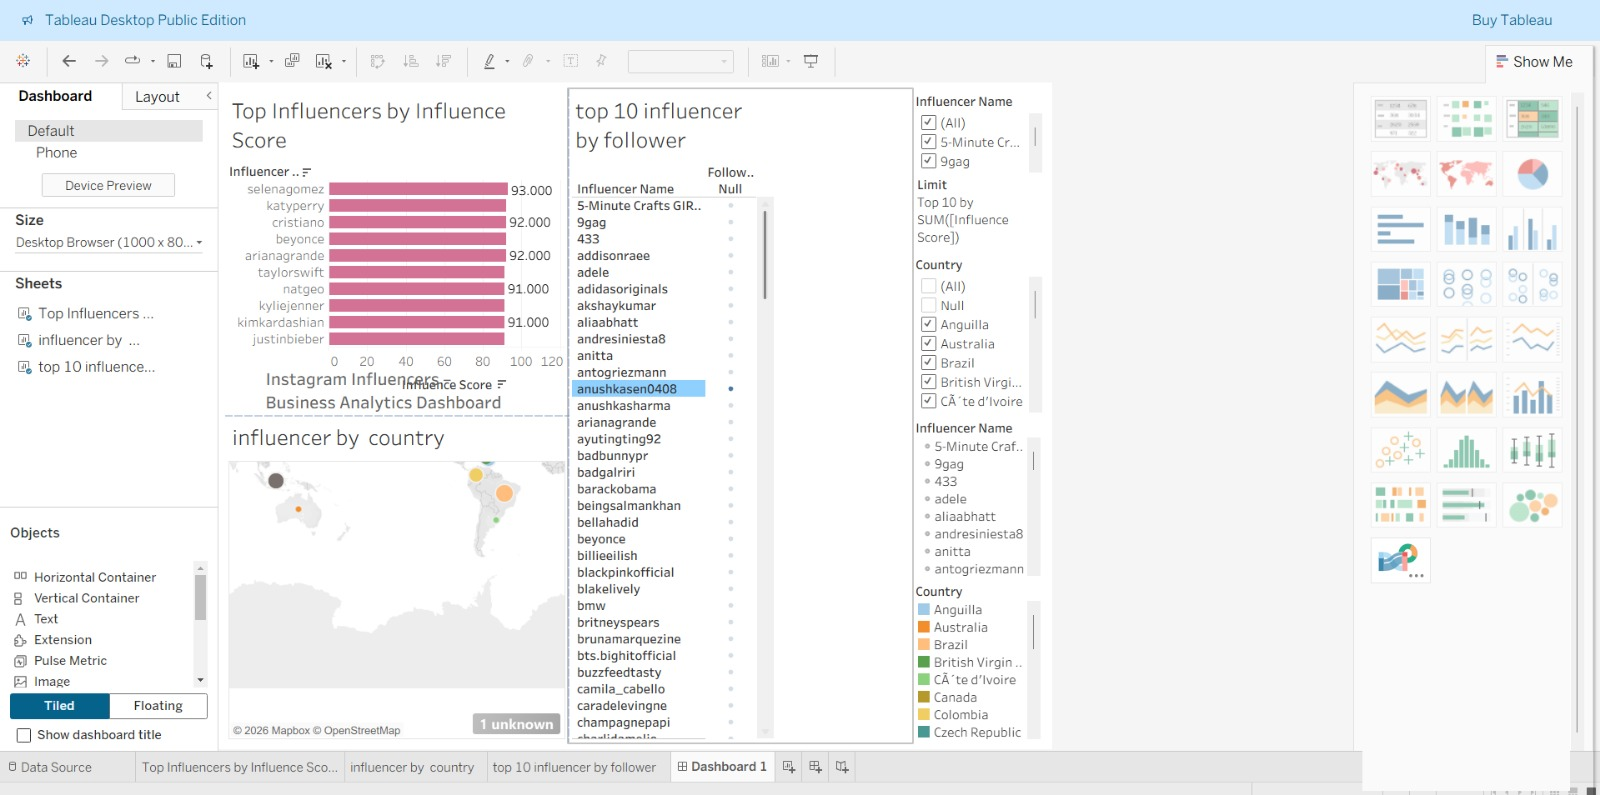

The dashboard page shown, as its layout file describes it:
{"tool":"tableau","page":{"name":"Dashboard 1","canvas":[1000,800],"ordinal":0},"visuals":[{"type":"worksheet","title":"Top Influencers by Influence Score","mark":"Automatic","rows":["channel_info"],"cols":["influence_score"],"box":[8,8,412,392]},{"type":"worksheet","title":"top 10 influencer by follower","mark":"Line","rows":["channel_info"],"cols":["followers"],"box":[420,8,412,784]},{"type":"filter","title":"Top Influencers by Influence Score","param":"[federated.04wbd2o18h1zqv15gf97p18zrrr3].[none:channel_info:nk]","box":[832,8,160,196]},{"type":"filter","title":"influencer by  country","param":"[federated.04wbd2o18h1zqv15gf97p18zrrr3].[none:country:nk]","box":[832,204,160,196]},{"type":"text","box":[53,328,299,83]},{"type":"worksheet","title":"influencer by  country","mark":"Automatic","box":[8,400,412,392]},{"type":"legend","title":"influencer by  country","param":"[federated.04wbd2o18h1zqv15gf97p18zrrr3].[none:channel_info:nk]","box":[832,400,160,196]},{"type":"legend","title":"influencer by  country","param":"[federated.04wbd2o18h1zqv15gf97p18zrrr3].[none:country:nk]","box":[832,596,160,196]}]}

Visuals, with their boxes on the page's 1000x800 design canvas (x1, y1, x2, y2). These are canvas units, not pixel positions in the 1600x795 screenshot, which may show the page scaled, cropped or inside an application window:
"Top Influencers by Influence Score" worksheet: [left=8, top=8, right=420, bottom=400]
"top 10 influencer by follower" worksheet (Line marks): [left=420, top=8, right=832, bottom=792]
"Top Influencers by Influence Score" filter: [left=832, top=8, right=992, bottom=204]
"influencer by  country" filter: [left=832, top=204, right=992, bottom=400]
text: [left=53, top=328, right=352, bottom=411]
"influencer by  country" worksheet: [left=8, top=400, right=420, bottom=792]
"influencer by  country" legend: [left=832, top=400, right=992, bottom=596]
"influencer by  country" legend: [left=832, top=596, right=992, bottom=792]
